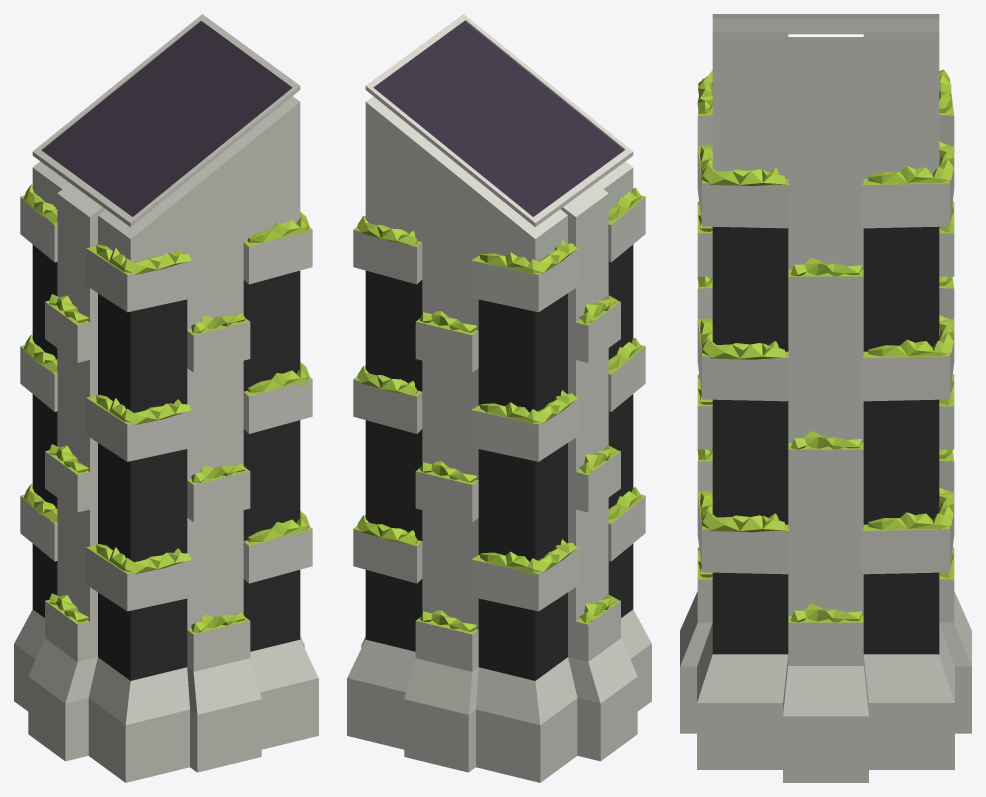
Rendered from Building5.fbx.
3 views of the same model, side by side, from view 1: azimuth 30°, elevation 25°; view 2: azimuth 150°, elevation 25°; view 3: azimuth 270°, elevation 25° (orthographic). The views are drawn at different scales.
Parts seen in each view (by area): view 1: building_5; view 2: building_5; view 3: building_5.
Boxes of the visible parts, x1=… form: building_5: x1=14, y1=14, x2=318, y2=782; building_5: x1=347, y1=14, x2=651, y2=782; building_5: x1=680, y1=14, x2=971, y2=782.
Size of the model in its own units: 2821 by 7297 by 2576.
